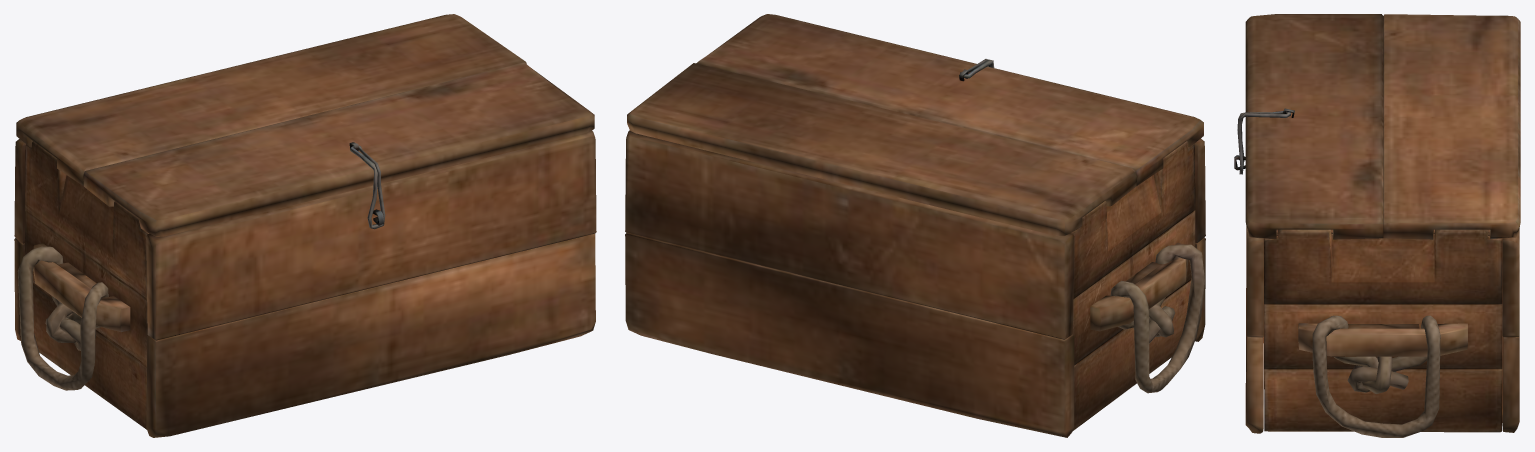
The model's file is wooden_crate_01_lod.gltf.
The picture shows the model from 3 angles, left to right: view 1: azimuth 30°, elevation 25°; view 2: azimuth 150°, elevation 25°; view 3: azimuth 270°, elevation 25°; orthographic projection. The views are drawn at different scales.
Parts seen in each view (by area): view 1: wooden_crate_01, wooden_crate_01_lid, wooden_crate_01_latch; view 2: wooden_crate_01, wooden_crate_01_lid; view 3: wooden_crate_01_lid, wooden_crate_01, wooden_crate_01_latch.
Boxes of the visible parts, x1=… form: wooden_crate_01: x1=14, y1=131, x2=596, y2=437; wooden_crate_01_lid: x1=16, y1=14, x2=594, y2=236; wooden_crate_01_latch: x1=350, y1=145, x2=385, y2=229; wooden_crate_01: x1=625, y1=130, x2=1205, y2=437; wooden_crate_01_lid: x1=627, y1=14, x2=1203, y2=236; wooden_crate_01_lid: x1=1245, y1=14, x2=1520, y2=239; wooden_crate_01: x1=1234, y1=155, x2=1519, y2=437; wooden_crate_01_latch: x1=1237, y1=111, x2=1290, y2=174.
Bounding box in the file's own units: 0.8245 × 0.3471 × 0.4069.
Materials: 1 (1 with a texture image).
